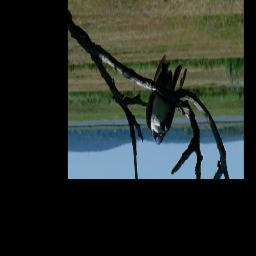Swallow: (145, 53, 189, 147)
